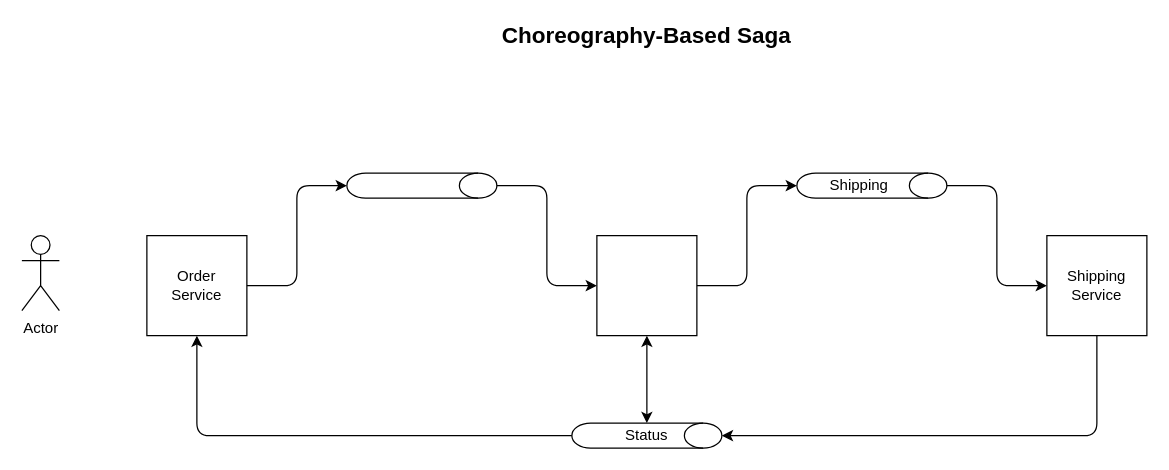
Image size: 1169x470. Some labels were removed from this diagram. Each missing label, with the box of its shape:
Payment Service: (596, 234, 697, 336)
Paymet: (346, 172, 497, 198)
